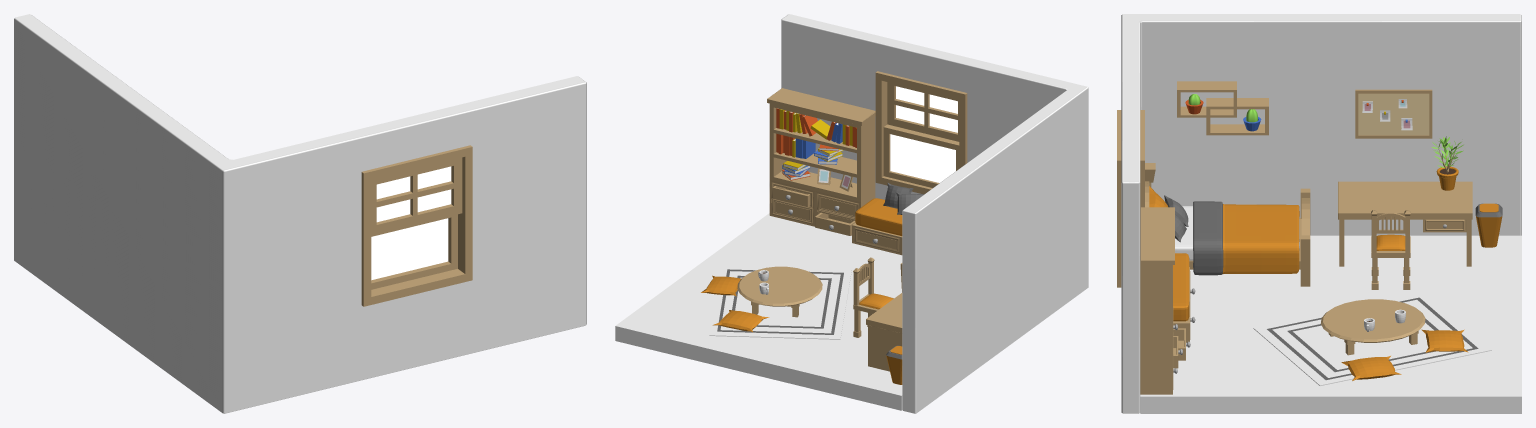
Rendered from bedroom.gltf.
3 renders of one model, left to right at view 1: azimuth 30°, elevation 25°; view 2: azimuth 150°, elevation 25°; view 3: azimuth 270°, elevation 25°, orthographic. The views are drawn at different scales.
Parts seen in each view (by area): view 1: Wall, Window; view 2: Wall, Floor, Bookshelf, Window, Carpet, Coffe table, Sofa, Table, Book.001, Chair, Book.002, Cushion.001 (+3 smaller); view 3: Wall, Floor, Bed, Carpet, Bookshelf, Table, Board, Coffe table, Wallshelf, Chair, Bed frame, Sofa (+6 smaller).
Part boxes in pixels (x1=…): Wall: x1=14, y1=14, x2=586, y2=413; Window: x1=361, y1=145, x2=472, y2=306; Wall: x1=781, y1=14, x2=1088, y2=413; Floor: x1=615, y1=213, x2=902, y2=410; Bookshelf: x1=767, y1=88, x2=875, y2=235; Window: x1=875, y1=71, x2=967, y2=194; Carpet: x1=709, y1=265, x2=851, y2=339; Coffe table: x1=737, y1=266, x2=822, y2=317; Sofa: x1=852, y1=198, x2=902, y2=255; Table: x1=866, y1=293, x2=902, y2=371; Book.001: x1=776, y1=108, x2=856, y2=147; Chair: x1=853, y1=257, x2=893, y2=337; Book.002: x1=776, y1=133, x2=815, y2=158; Cushion.001: x1=712, y1=310, x2=769, y2=332; Wall: x1=1121, y1=14, x2=1521, y2=413; Floor: x1=1140, y1=235, x2=1521, y2=413; Bed: x1=1175, y1=201, x2=1299, y2=275; Carpet: x1=1253, y1=292, x2=1491, y2=385; Bookshelf: x1=1140, y1=207, x2=1190, y2=394; Table: x1=1338, y1=181, x2=1472, y2=266; Board: x1=1355, y1=89, x2=1432, y2=138; Coffe table: x1=1320, y1=299, x2=1425, y2=355; Wallshelf: x1=1177, y1=81, x2=1268, y2=135; Chair: x1=1371, y1=210, x2=1410, y2=289; Bed frame: x1=1145, y1=163, x2=1310, y2=286; Sofa: x1=1173, y1=253, x2=1195, y2=342.
Bounding box in the file's own units: 8.4 × 5.37 × 8.49.
